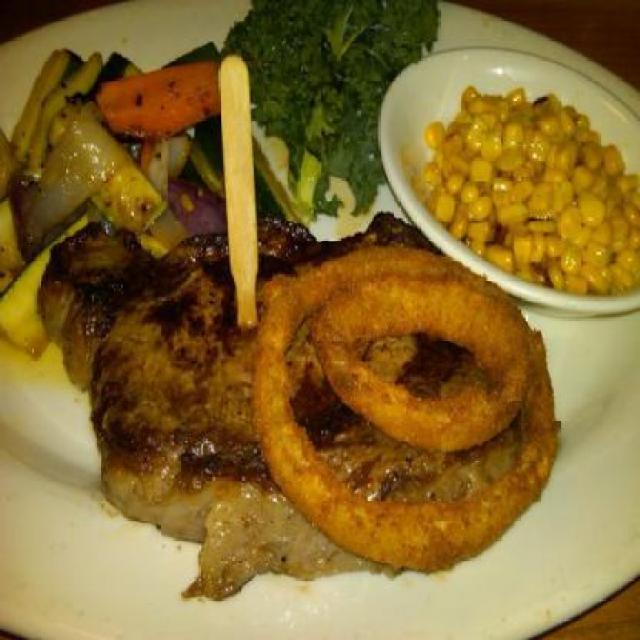Steak: (101, 232, 590, 612)
